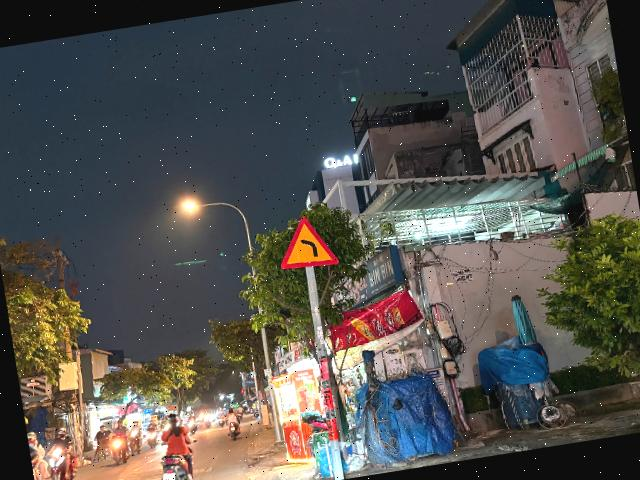cho-ngoat-nguy-hiem-ben-trai: (272, 210, 339, 273)
